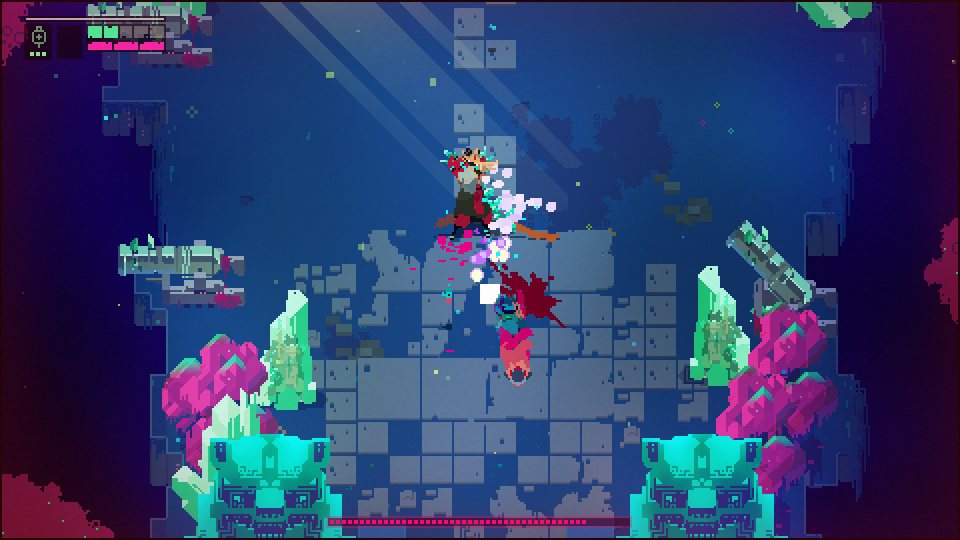hanged_man: (431, 144, 517, 245)
player: (493, 322, 539, 388)
